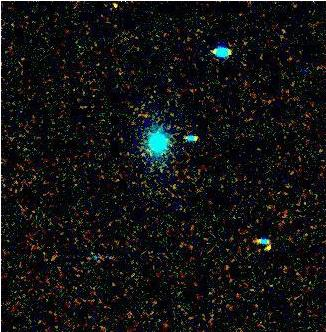star: (102, 0, 132, 25)
